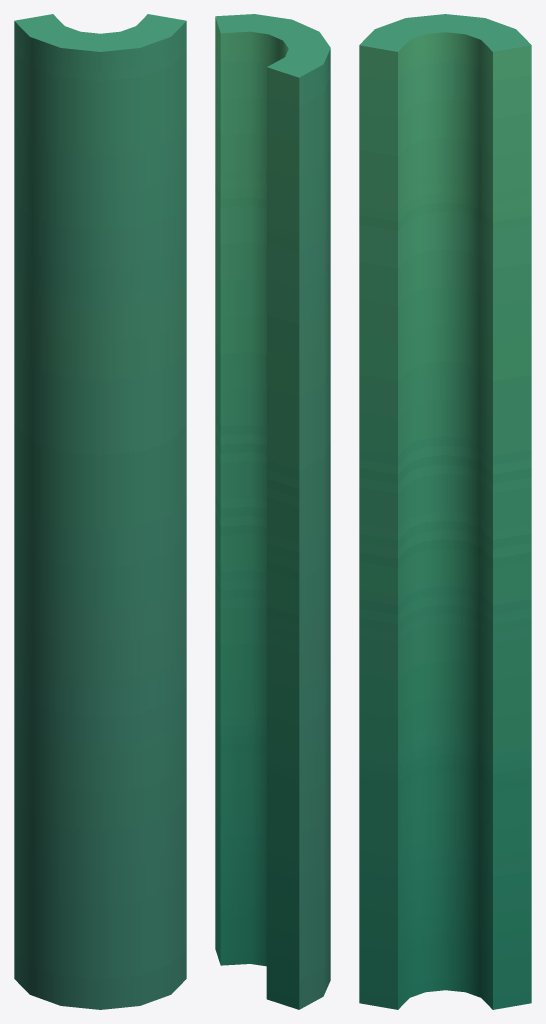
File: celery-stick.glb
3 views of the same model, side by side, from view 1: azimuth 90°, elevation 25°; view 2: azimuth 210°, elevation 25°; view 3: azimuth 270°, elevation 25° (orthographic). The views are drawn at different scales.
Visible parts, largest first — view 1: celery-stick; view 2: celery-stick; view 3: celery-stick.
Part boxes in pixels (left/top/right/bottom): celery-stick: left=14, top=14, right=186, bottom=1009; celery-stick: left=215, top=14, right=330, bottom=1009; celery-stick: left=359, top=14, right=531, bottom=1009.
Size of the model in its own units: 0.0459 by 0.54 by 0.0882.
1 material, 1 textured.
